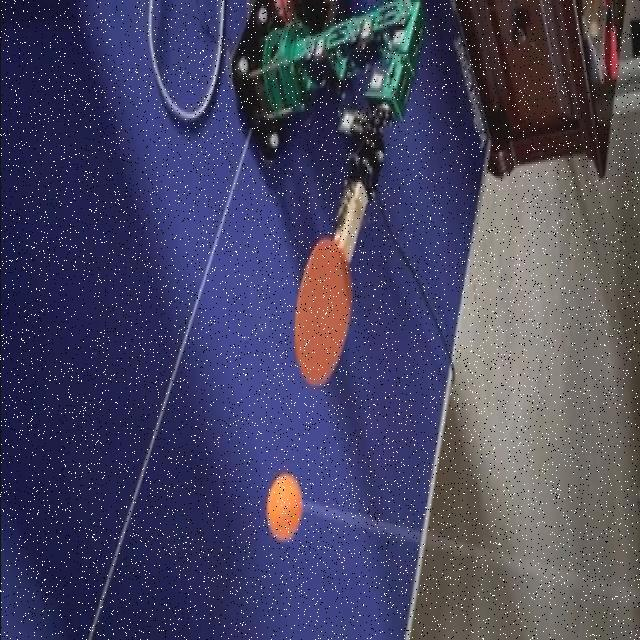ping-pong-ball: (266, 474, 300, 540)
